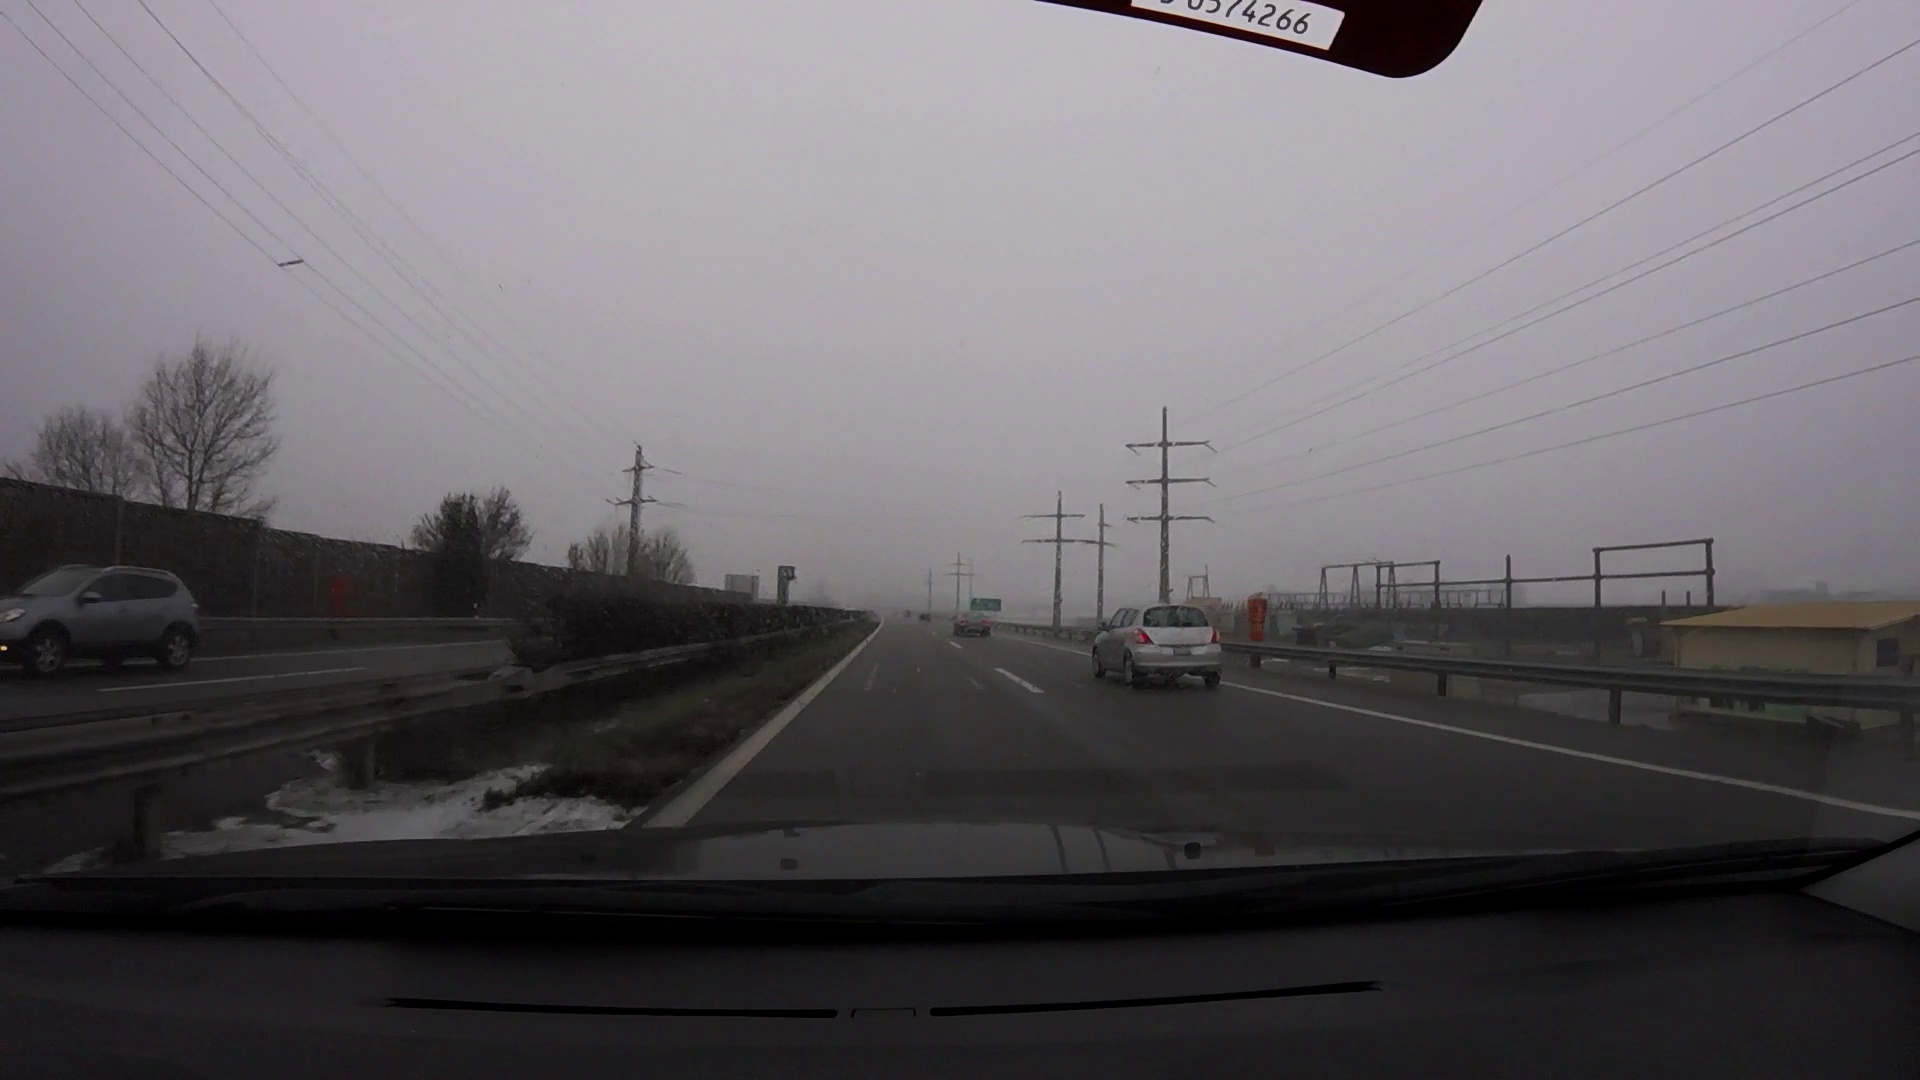radar: (775, 564, 799, 611)
